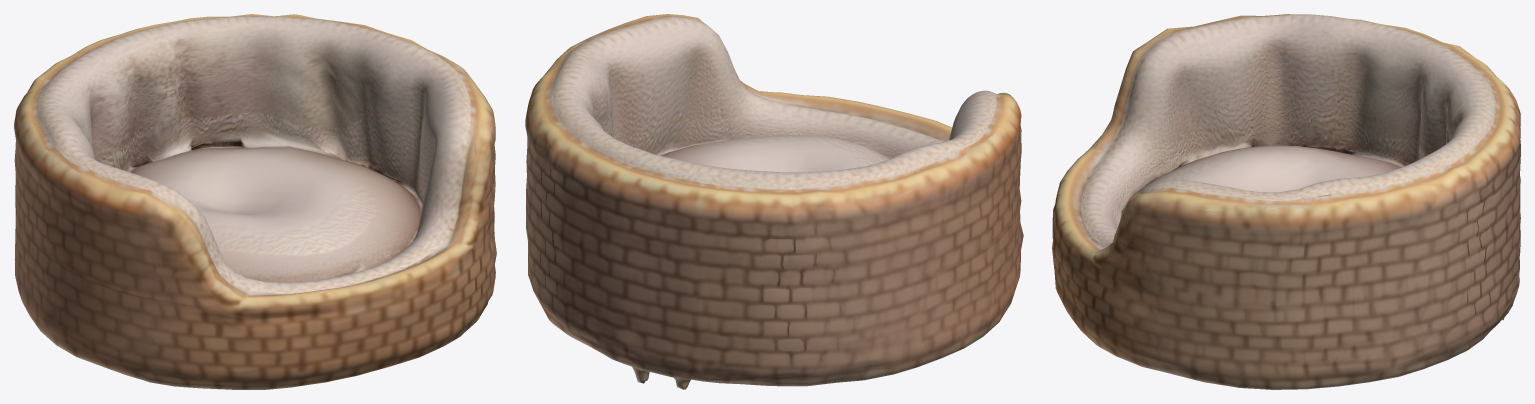
The model's file is PetBed.glb.
3 views of the same model, side by side, from view 1: azimuth 30°, elevation 25°; view 2: azimuth 150°, elevation 25°; view 3: azimuth 270°, elevation 25° (orthographic). The views are drawn at different scales.
Size of the model in its own units: 2 by 0.9647 by 1.96.
Materials: 1 (1 with a texture image).
